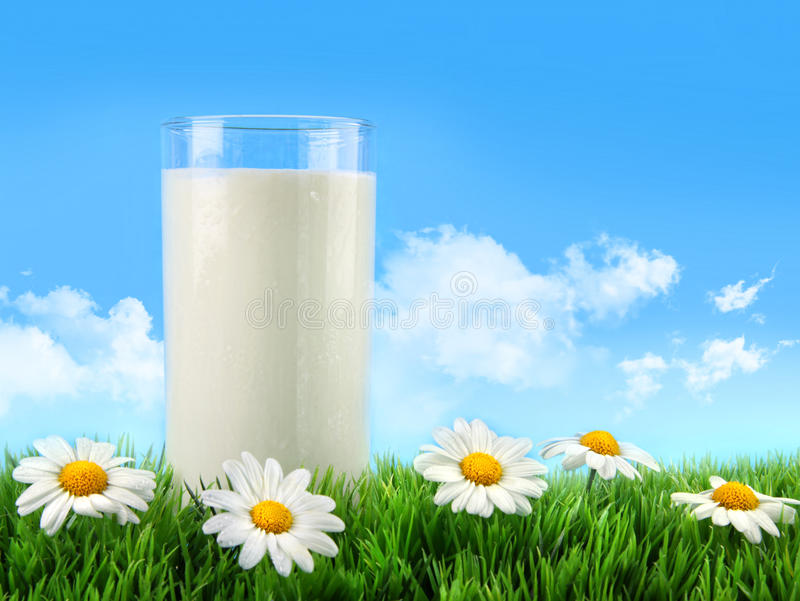glass of milk: (176, 122, 368, 478)
